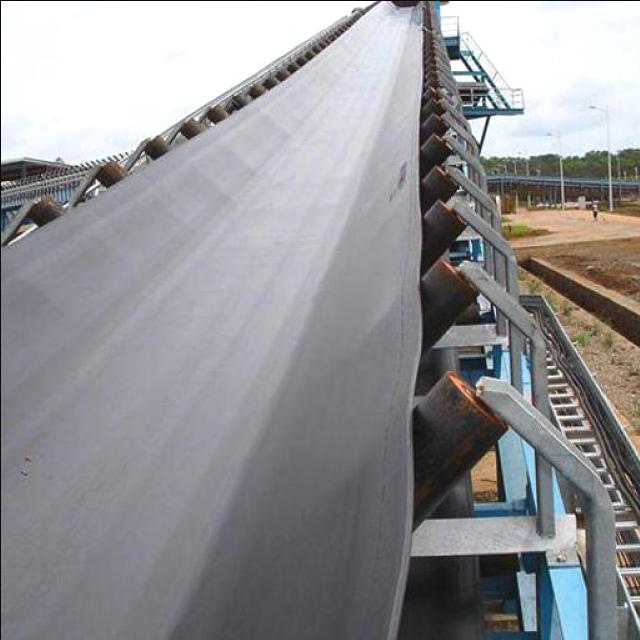conveyor: (0, 0, 422, 640)
